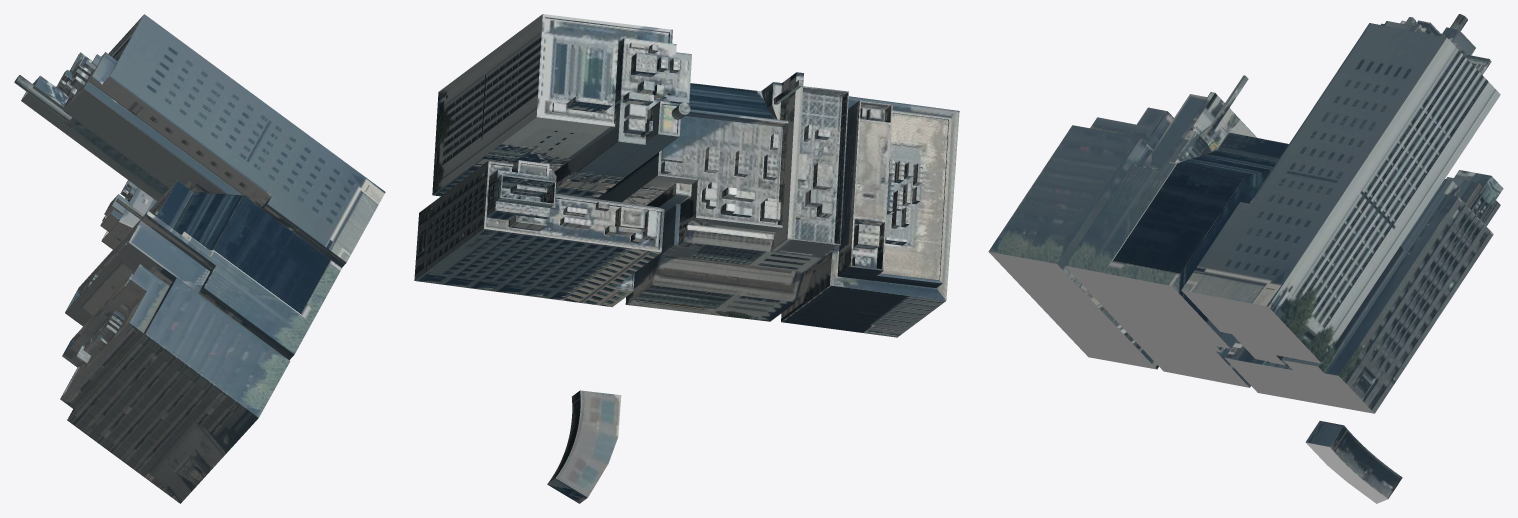
File: data482.glb
The picture shows the model from 3 angles, left to right: view 1: azimuth 30°, elevation 25°; view 2: azimuth 150°, elevation 25°; view 3: azimuth 270°, elevation 25°; orthographic projection. The views are drawn at different scales.
Bounding box in the file's own units: 96.34 × 105 × 105.
Materials: 6 (3 with a texture image).
